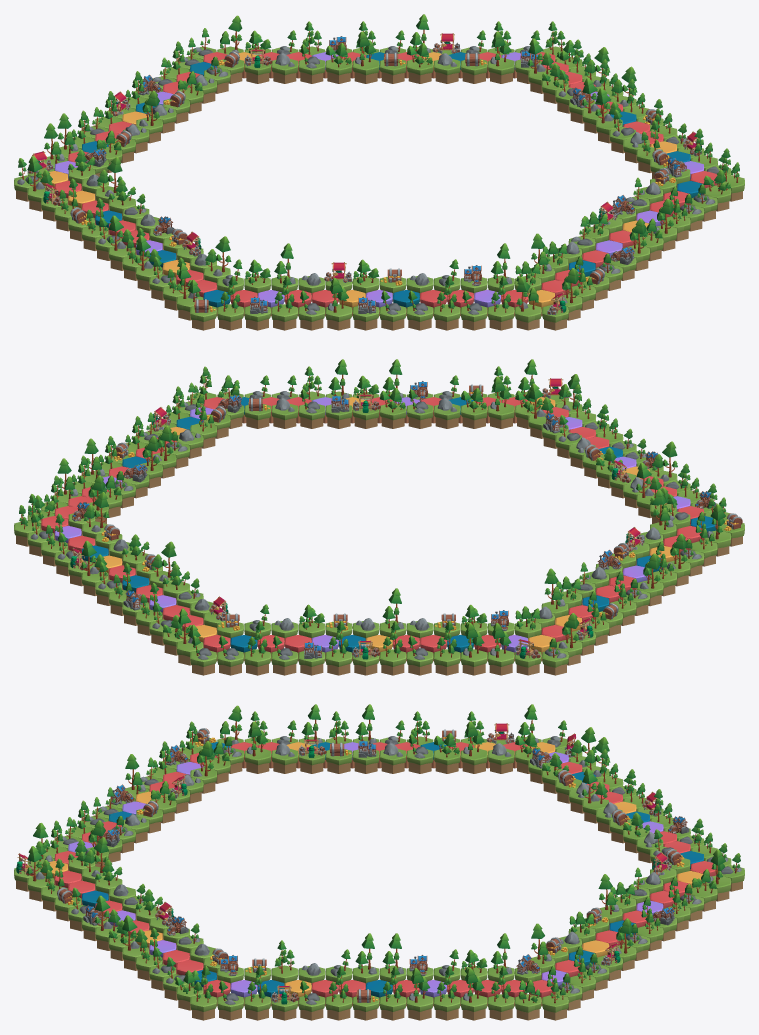
The model's file is Hex_Map_Preset.fbx.
3 views of the same model, one above another, from view 1: azimuth 30°, elevation 25°; view 2: azimuth 150°, elevation 25°; view 3: azimuth 270°, elevation 25° (orthographic).
Parts seen in each view (by area): view 1: 24_Shop_C, 33_Forest_S, 36_Chest_C, 25_Forest_S, 31_Shop_S, 30_Quest_S, 34_Quest_S, 47_Forest_S, 26_Quest_S, 37_Forest_S, 39_Shop_S, 45_Forest_S (+60 smaller); view 2: 60_Forest_C, 53_Forest_S, 48_Shop_C, 47_Forest_S, 70_Forest_S, 50_Forest_S, 56_Quest_S, 67_Forest_S, 37_Forest_S, 49_Quest_S, 45_Forest_S, 55_Chest_S (+60 smaller); view 3: 72_Forest_C, 05_Forest_S, 12_Forest_C, 06_Chest_S, 09_Shop_S, 01_Forest_S, 02_Forest_S, 23_Forest_S, 65_Forest_S, 04_Quest_S, 22_Forest_S, 11_Quest_S (+60 smaller).
Boxes of the visible parts, x1=… form: 24_Shop_C: x1=514, y1=276, x2=568, y2=330; 33_Forest_S: x1=271, y1=243, x2=311, y2=330; 36_Chest_C: x1=176, y1=263, x2=230, y2=330; 25_Forest_S: x1=487, y1=243, x2=527, y2=330; 31_Shop_S: x1=324, y1=262, x2=365, y2=330; 30_Quest_S: x1=352, y1=259, x2=392, y2=330; 34_Quest_S: x1=244, y1=259, x2=284, y2=330; 47_Forest_S: x1=27, y1=149, x2=95, y2=211; 26_Quest_S: x1=460, y1=265, x2=500, y2=330; 37_Forest_S: x1=163, y1=236, x2=231, y2=310; 39_Shop_S: x1=135, y1=231, x2=203, y2=290; 45_Forest_S: x1=54, y1=157, x2=122, y2=231; 60_Forest_C: x1=176, y1=608, x2=230, y2=675; 53_Forest_S: x1=379, y1=588, x2=419, y2=675; 48_Shop_C: x1=514, y1=635, x2=568, y2=675; 47_Forest_S: x1=514, y1=606, x2=582, y2=665; 70_Forest_S: x1=41, y1=492, x2=109, y2=566; 50_Forest_S: x1=460, y1=604, x2=500, y2=675; 56_Quest_S: x1=298, y1=604, x2=338, y2=675; 67_Forest_S: x1=81, y1=534, x2=149, y2=595; 37_Forest_S: x1=650, y1=489, x2=717, y2=566; 49_Quest_S: x1=487, y1=610, x2=527, y2=675; 45_Forest_S: x1=541, y1=568, x2=609, y2=645; 55_Chest_S: x1=325, y1=613, x2=365, y2=675; 72_Forest_C: x1=514, y1=965, x2=568, y2=1020; 05_Forest_S: x1=379, y1=933, x2=419, y2=1020; 12_Forest_C: x1=175, y1=966, x2=230, y2=1020; 06_Chest_S: x1=352, y1=933, x2=392, y2=1020; 09_Shop_S: x1=271, y1=940, x2=311, y2=1020; 01_Forest_S: x1=487, y1=933, x2=526, y2=1020; 02_Forest_S: x1=460, y1=949, x2=500, y2=1020; 23_Forest_S: x1=27, y1=839, x2=95, y2=901; 65_Forest_S: x1=598, y1=874, x2=663, y2=951; 04_Quest_S: x1=406, y1=955, x2=446, y2=1020; 22_Forest_S: x1=41, y1=837, x2=108, y2=911; 11_Quest_S: x1=217, y1=955, x2=257, y2=1020.
Bounding box in the file's own units: 26.5 × 2.68 × 30.26.
Materials: 7 (7 with a texture image).
